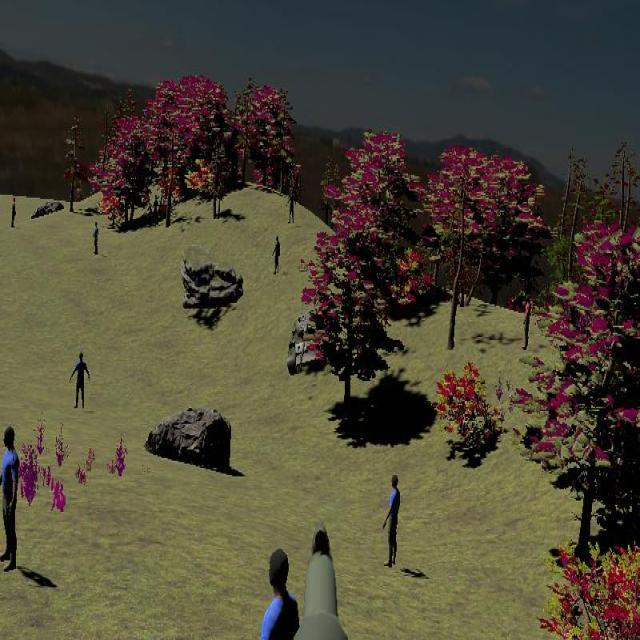Human: (249, 547, 301, 640), (0, 425, 19, 572), (383, 473, 400, 567)
Tank: (287, 311, 333, 375)
